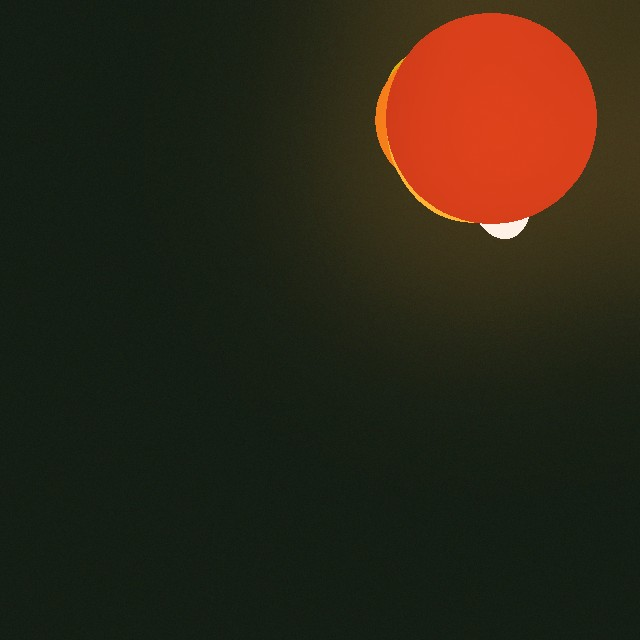fire: (410, 46, 552, 264)
